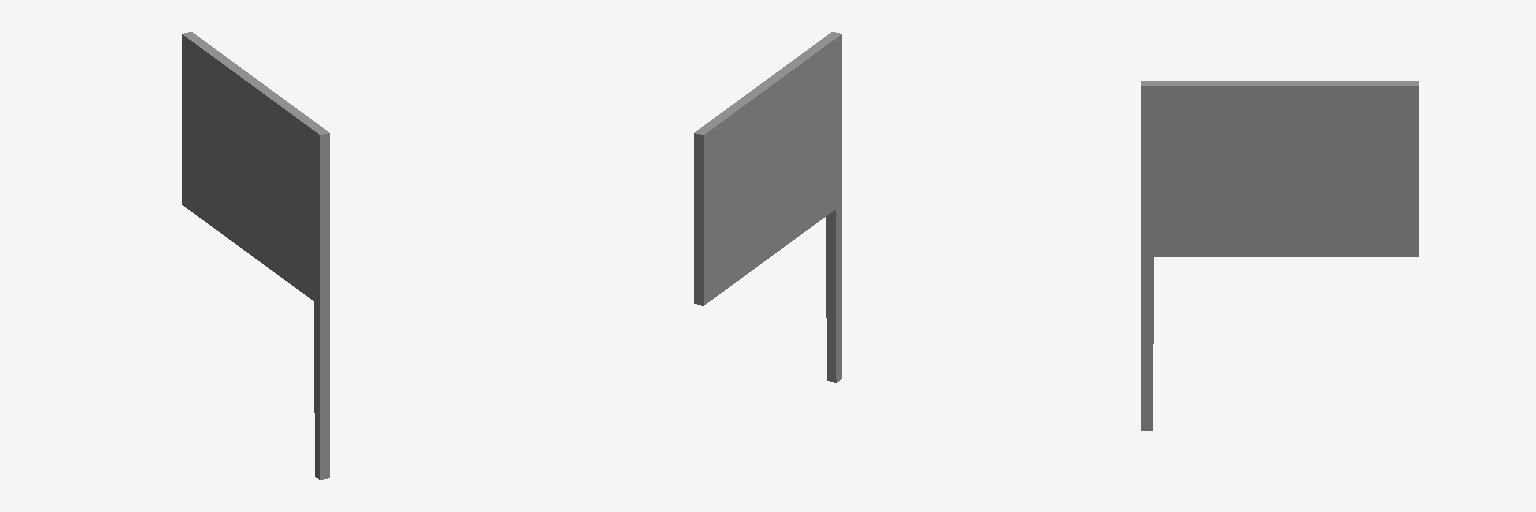
File: cataloniaflag.obj
The picture shows the model from 3 angles: view 1: azimuth 30°, elevation 25°; view 2: azimuth 150°, elevation 25°; view 3: azimuth 270°, elevation 25°; orthographic projection.
Visible parts, largest first — view 1: Cube_Cube.001; view 2: Cube_Cube.001; view 3: Cube_Cube.001.
Part boxes in pixels (left/top/right/bottom): Cube_Cube.001: left=182, top=32, right=329, bottom=479; Cube_Cube.001: left=694, top=32, right=841, bottom=382; Cube_Cube.001: left=1141, top=81, right=1418, bottom=430.
Bounding box in the file's own units: 2 × 67.82 × 49.35.